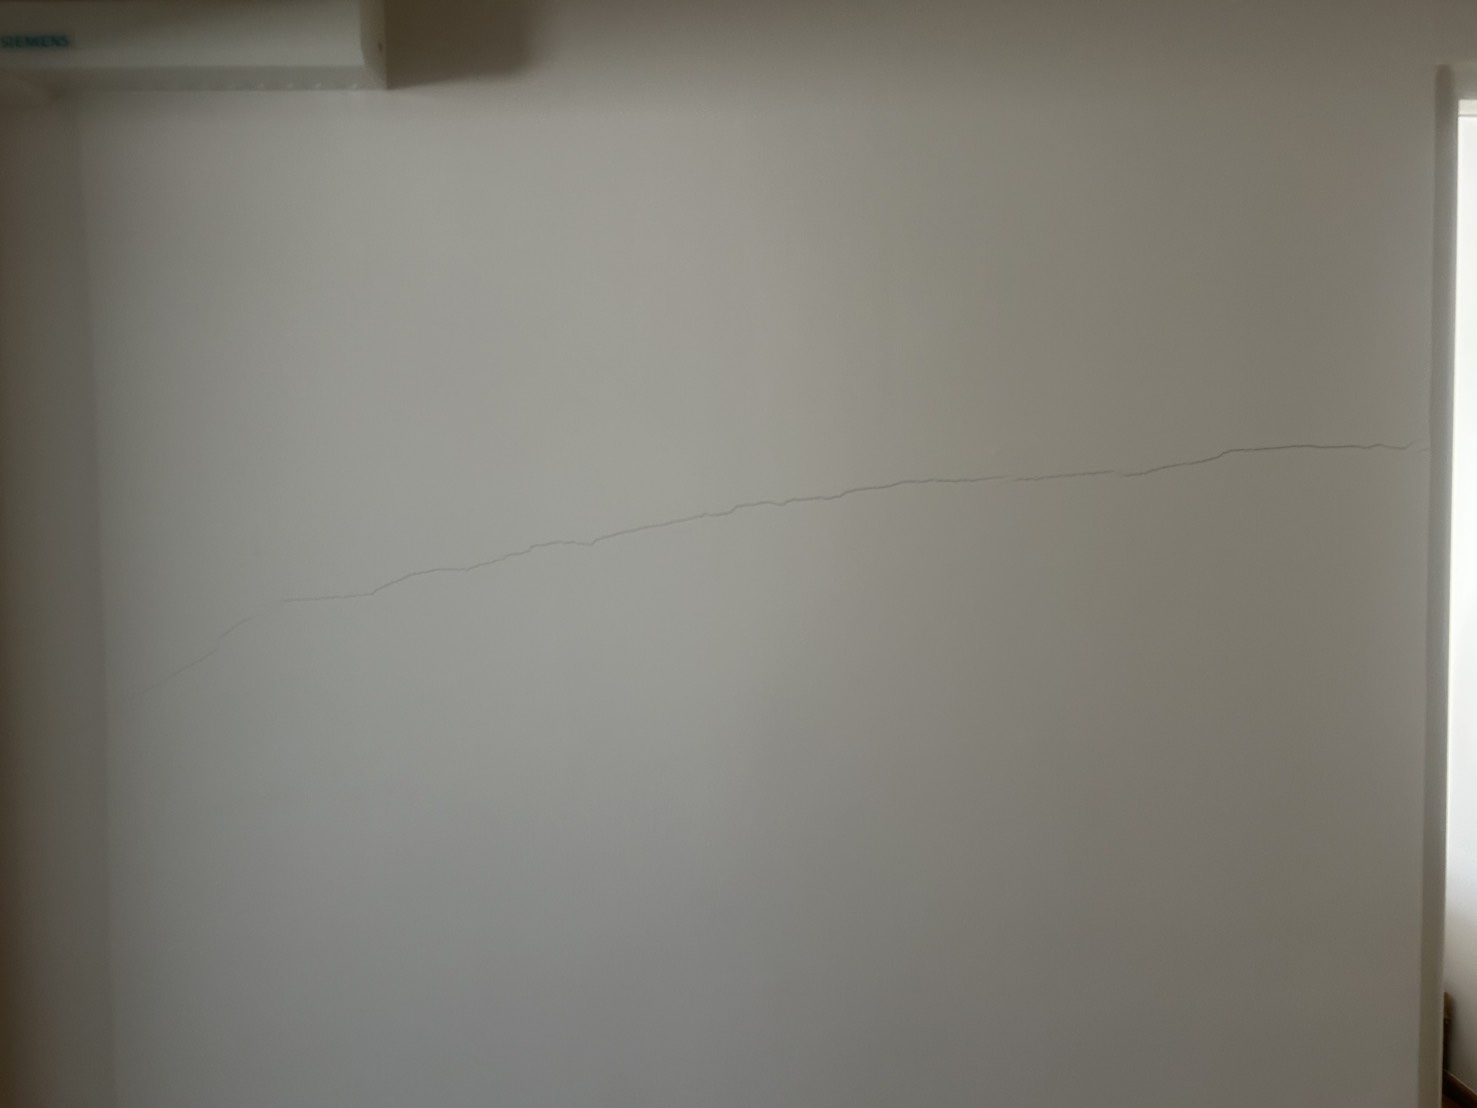Low: (111, 261, 1440, 737)
